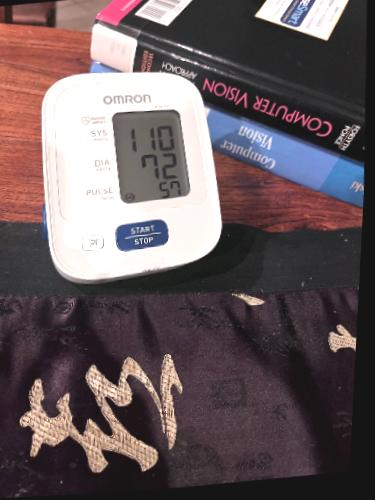bpm: (109, 103, 192, 206)
